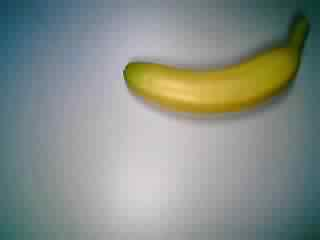banana: (120, 11, 310, 114)
